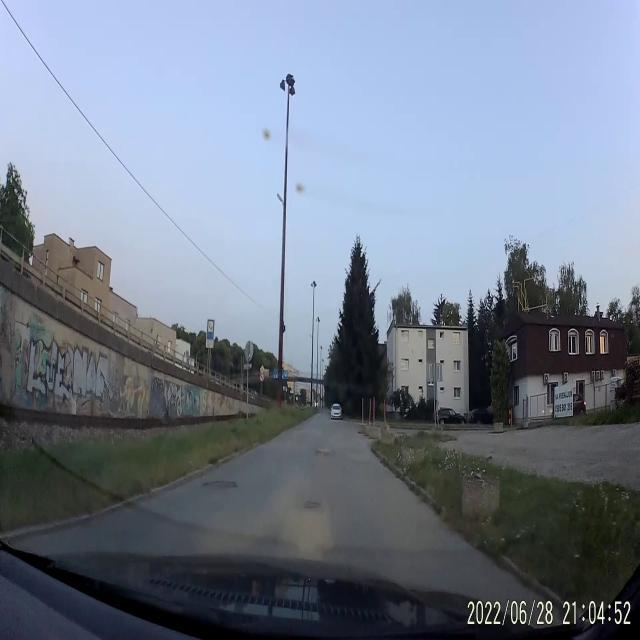Pothole: (303, 490, 323, 516), (202, 478, 238, 492), (311, 444, 332, 459)
